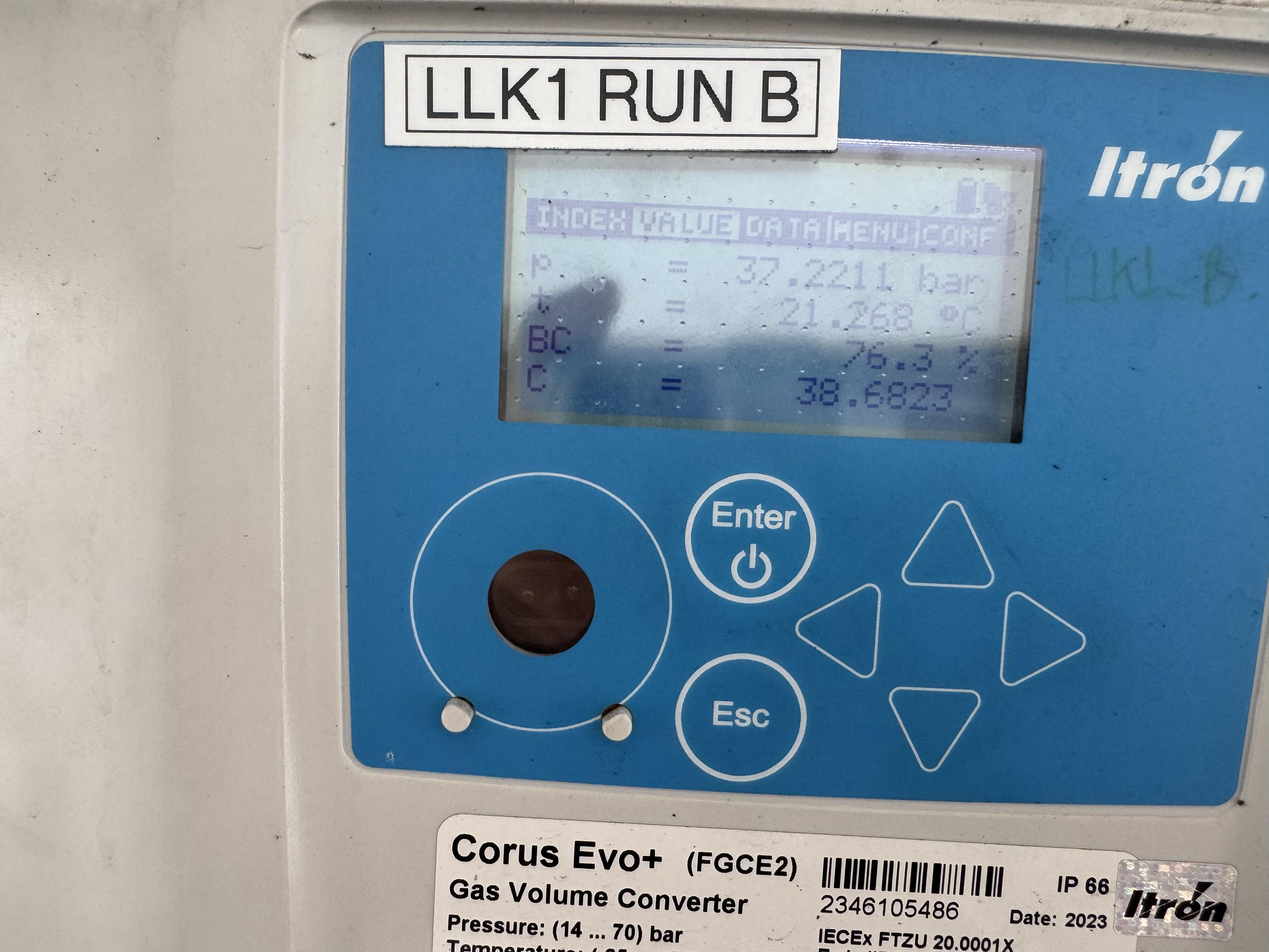digital_screen: (496, 125, 1043, 444)
